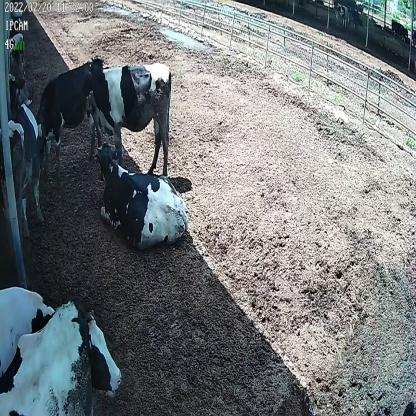cow: (92, 136, 190, 247), (86, 56, 173, 173), (36, 60, 102, 171)
